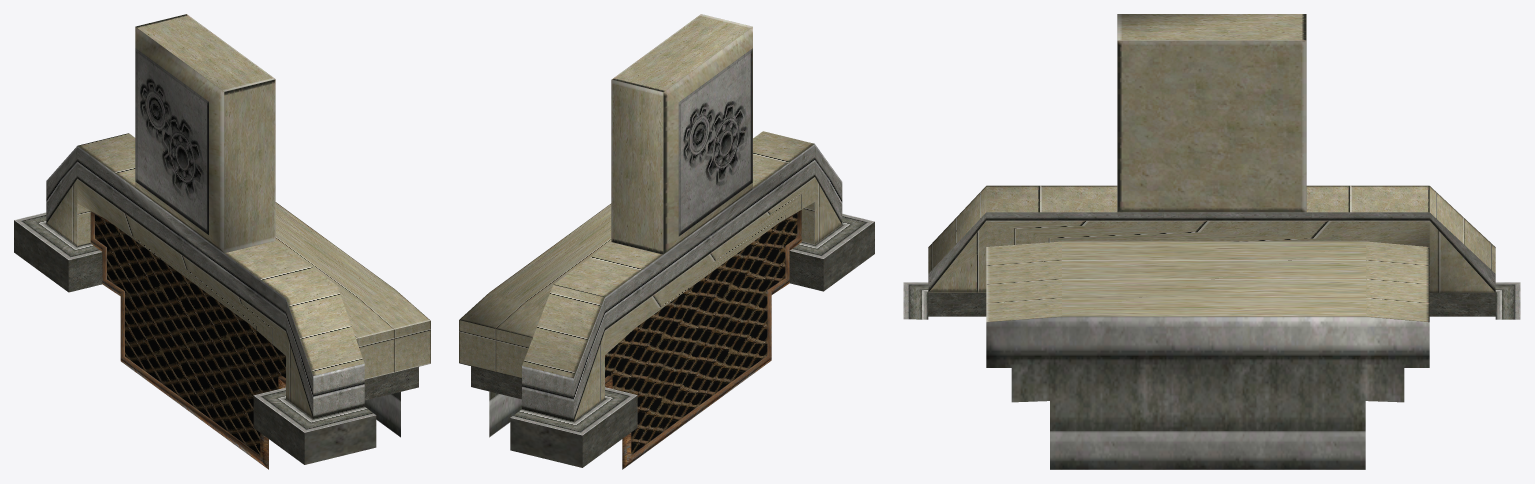
The model's file is WATERROOM_CANAL_GEARS_WATERROOM_CANAL_GEARS.fbx.
3 renders of one model, left to right at view 1: azimuth 30°, elevation 25°; view 2: azimuth 150°, elevation 25°; view 3: azimuth 270°, elevation 25°, orthographic. The views are drawn at different scales.
Parts seen in each view (by area): view 1: WATERROOM_CANAL_GEARS_WATERROOM_CANAL_GEARS; view 2: WATERROOM_CANAL_GEARS_WATERROOM_CANAL_GEARS; view 3: WATERROOM_CANAL_GEARS_WATERROOM_CANAL_GEARS.
Boxes of the visible parts, x1,y1,x2,y2 form: WATERROOM_CANAL_GEARS_WATERROOM_CANAL_GEARS: [14, 14, 430, 469]; WATERROOM_CANAL_GEARS_WATERROOM_CANAL_GEARS: [459, 14, 874, 469]; WATERROOM_CANAL_GEARS_WATERROOM_CANAL_GEARS: [903, 14, 1520, 469].
Size of the model in its own units: 16097 by 33273 by 48907.
Materials: 7 (7 with a texture image).
